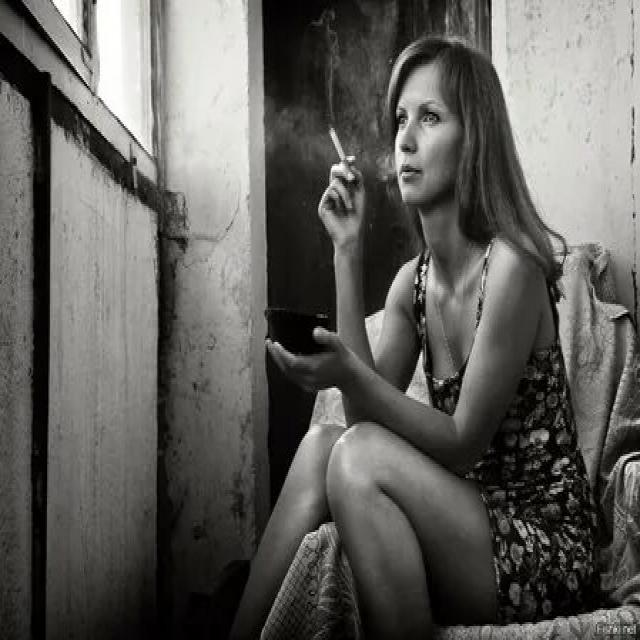cigarette: (325, 114, 351, 170)
